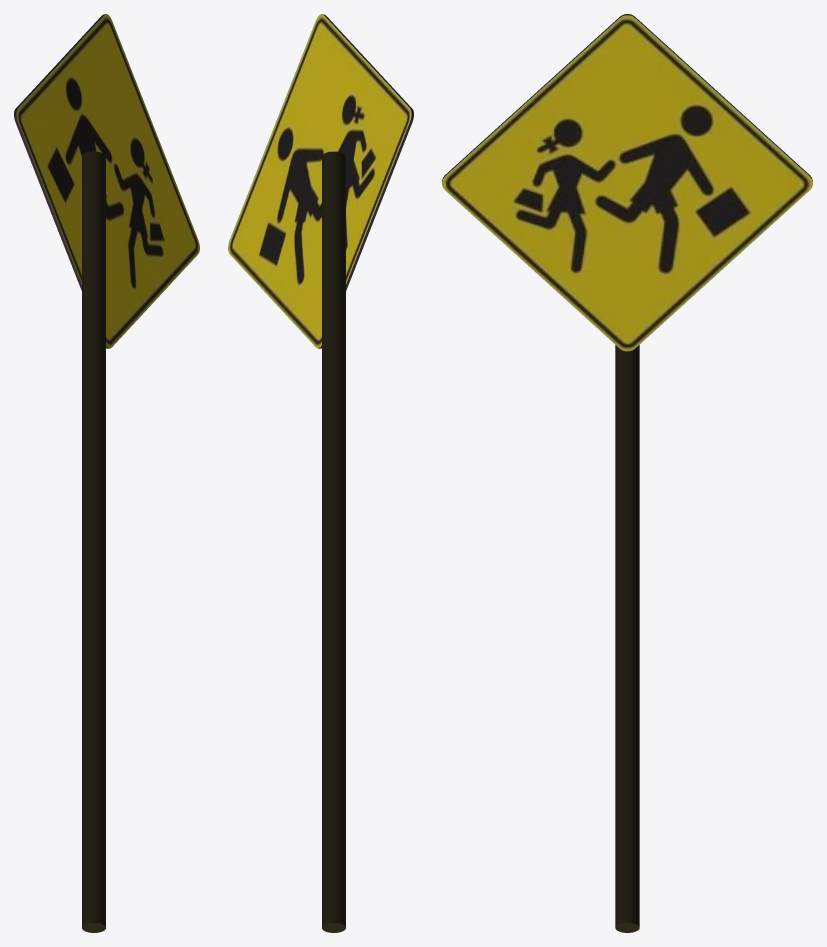
File: southparksign.glb
3 renders of one model, left to right at view 1: azimuth 30°, elevation 25°; view 2: azimuth 150°, elevation 25°; view 3: azimuth 270°, elevation 25°, orthographic.
Parts seen in each view (by area): view 1: Plane, Cylinder; view 2: Plane, Cylinder; view 3: Plane, Cylinder.
Part boxes in pixels (<box>): Plane: <box>14,14,199,348</box>; Cylinder: <box>82,151,105,932</box>; Plane: <box>228,14,413,348</box>; Cylinder: <box>322,151,345,932</box>; Plane: <box>442,14,812,351</box>; Cylinder: <box>615,345,639,932</box>.
Size of the model in its own units: 0.0809 by 2.86 by 1.05.
3 materials, 1 textured.
